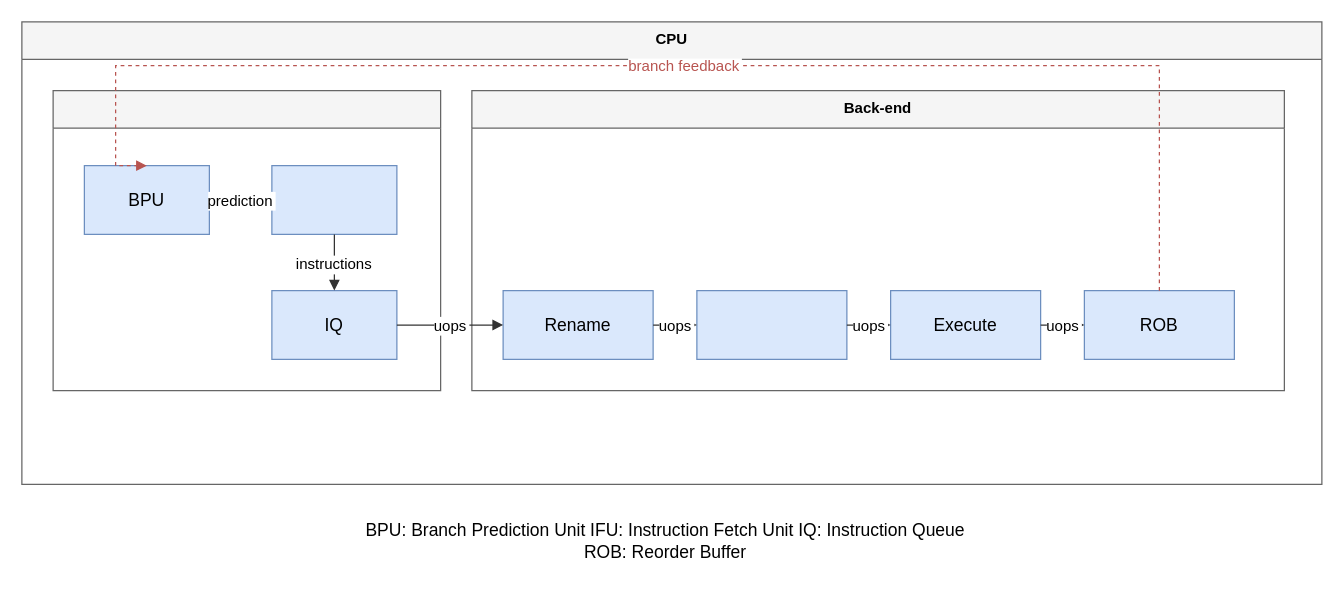
Image size: 1344x594. Some labels were removed from this diagram. Here are the shapes that lost their labels. From the top down, the box of each, then its label:
(271, 164, 397, 234): IFU
(52, 89, 441, 391): Front-end
(696, 289, 847, 359): Issue
